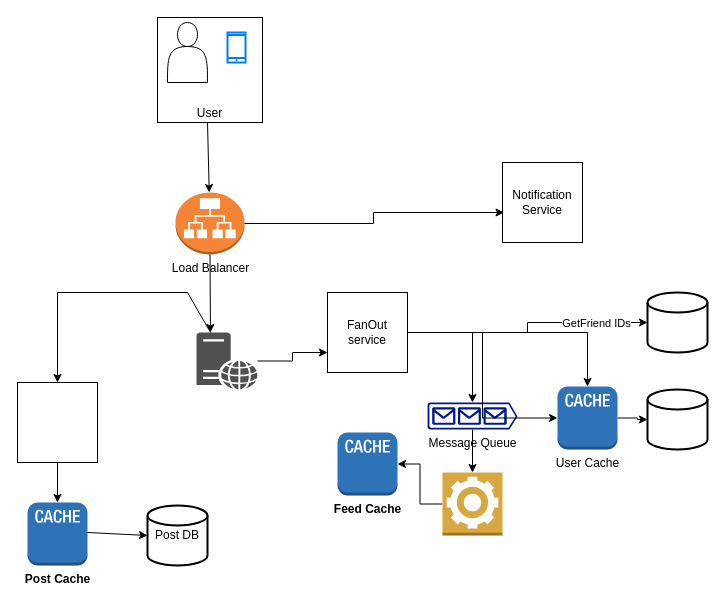
This 726x604 diagram has some shape labels left out. The shapes that lost their labels are listed below. From the top down, each one's centre as x and y in pixels, then its label:
At point 677,322: "Graph DB".
At point 226,360: "Web Servers".
At point 57,422: "Post service".
At point 677,419: "User DB".
At point 472,504: "FanoutWorkers".
